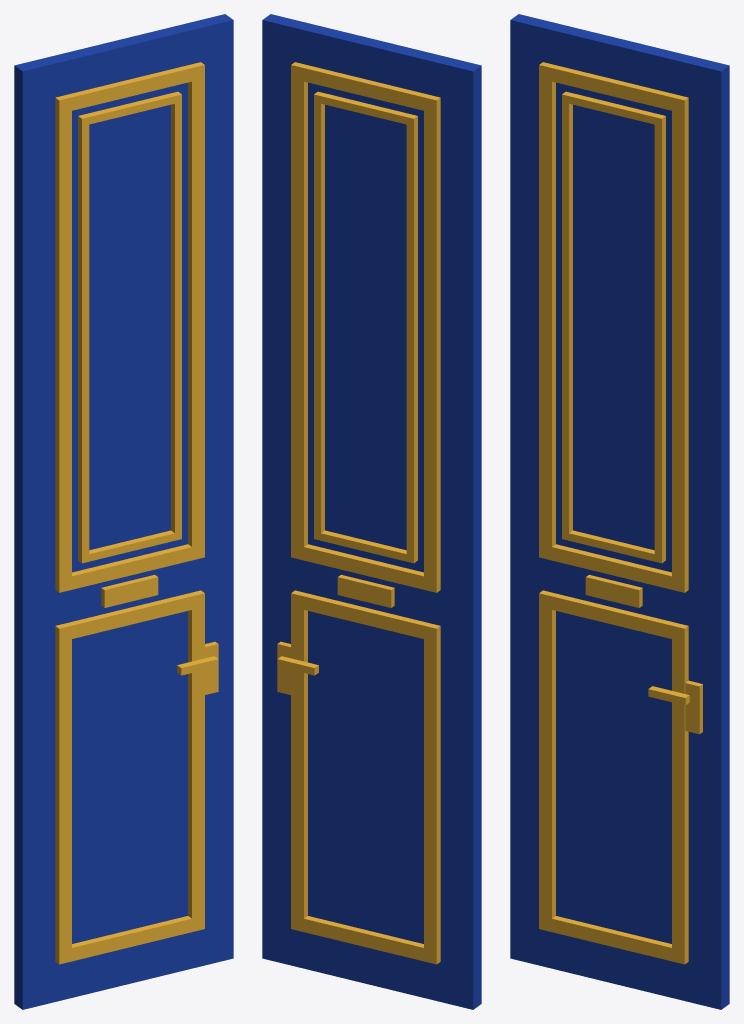
File: SM_Door_obelisk_75x315.fbx
3 views of the same model, side by side, from view 1: azimuth 30°, elevation 25°; view 2: azimuth 150°, elevation 25°; view 3: azimuth 330°, elevation 25° (orthographic).
Visible parts, largest first — view 1: SM_Door_obelisk_75x315; view 2: SM_Door_obelisk_75x315; view 3: SM_Door_obelisk_75x315.
Boxes of the visible parts, x1,y1,x2,y2 form: SM_Door_obelisk_75x315: (14, 14, 233, 1009); SM_Door_obelisk_75x315: (262, 14, 481, 1009); SM_Door_obelisk_75x315: (510, 14, 729, 1009).
Bounding box in the file's own units: 0.738 × 3.14 × 0.175.
